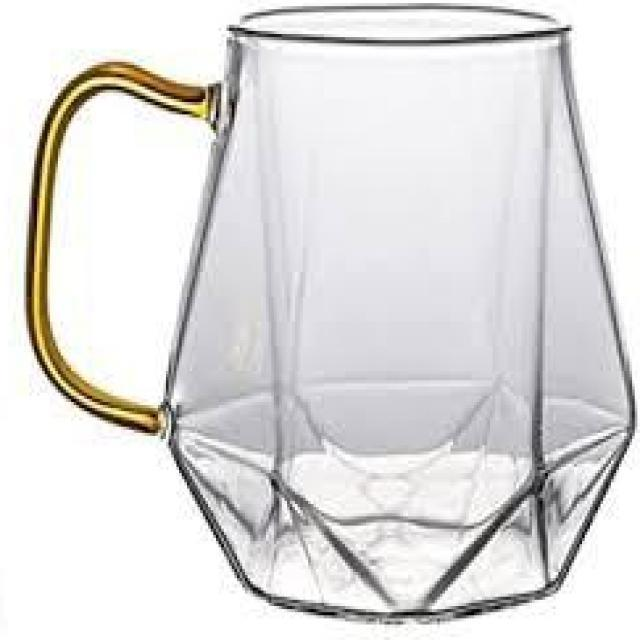glass: (24, 0, 640, 624)
